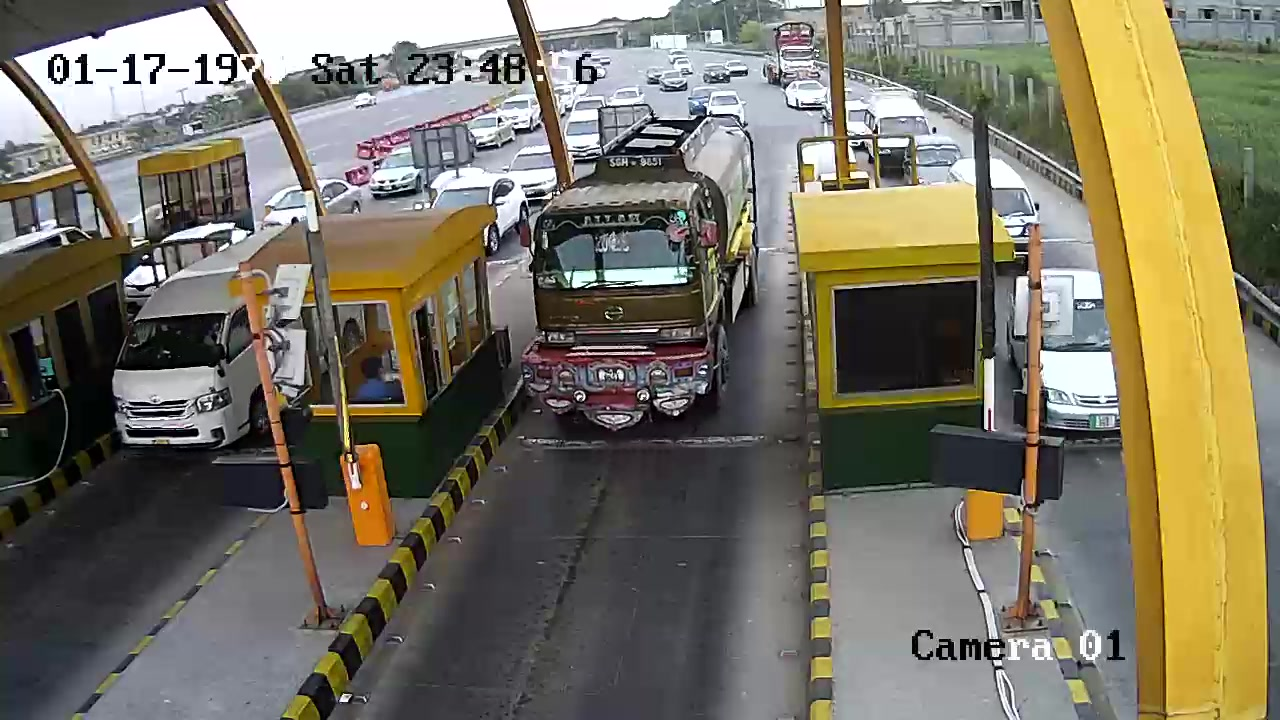F6: (530, 110, 760, 435)
